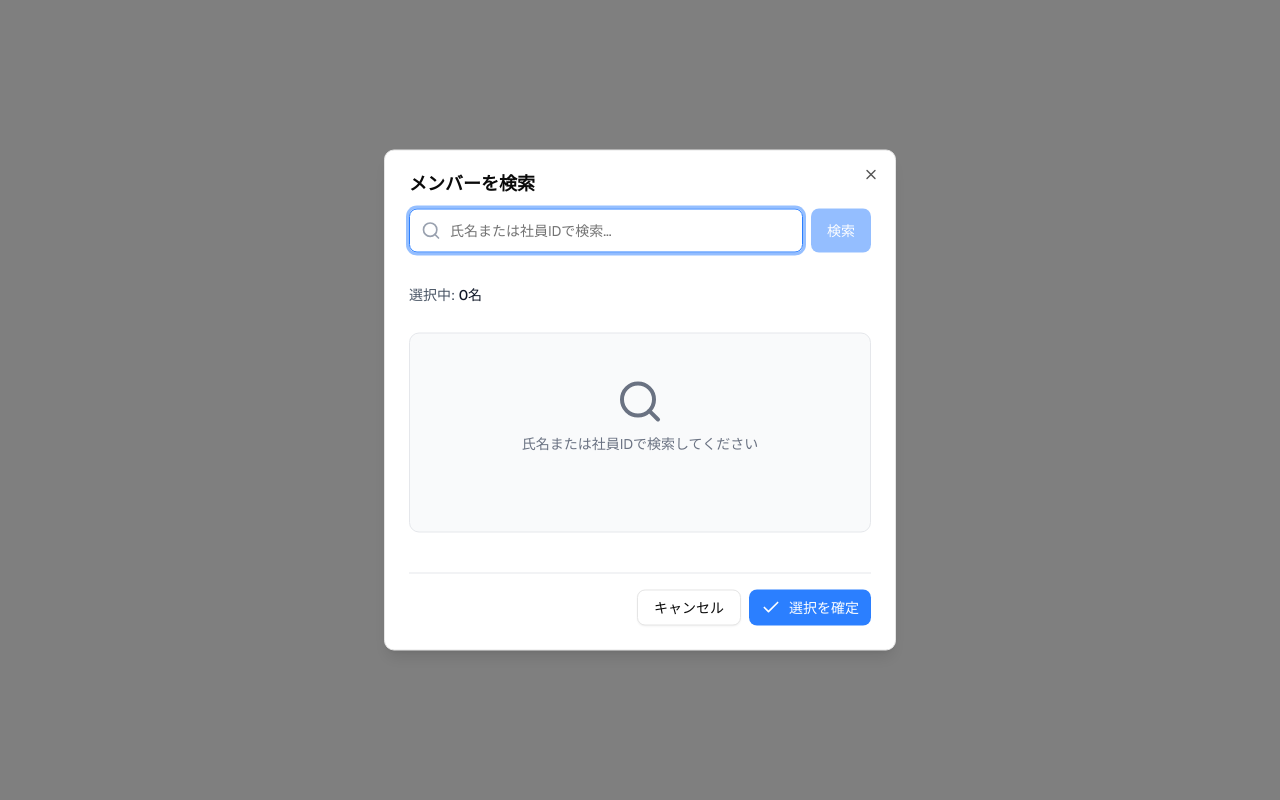
MemberSearchModal › エラー表示 › サーバエラーがない場合はデフォルトメッセージが表示される
Type "テスト" into the search field with placeholder "氏名または社員IDで検索..." at (606, 230), box [409,208,803,252]
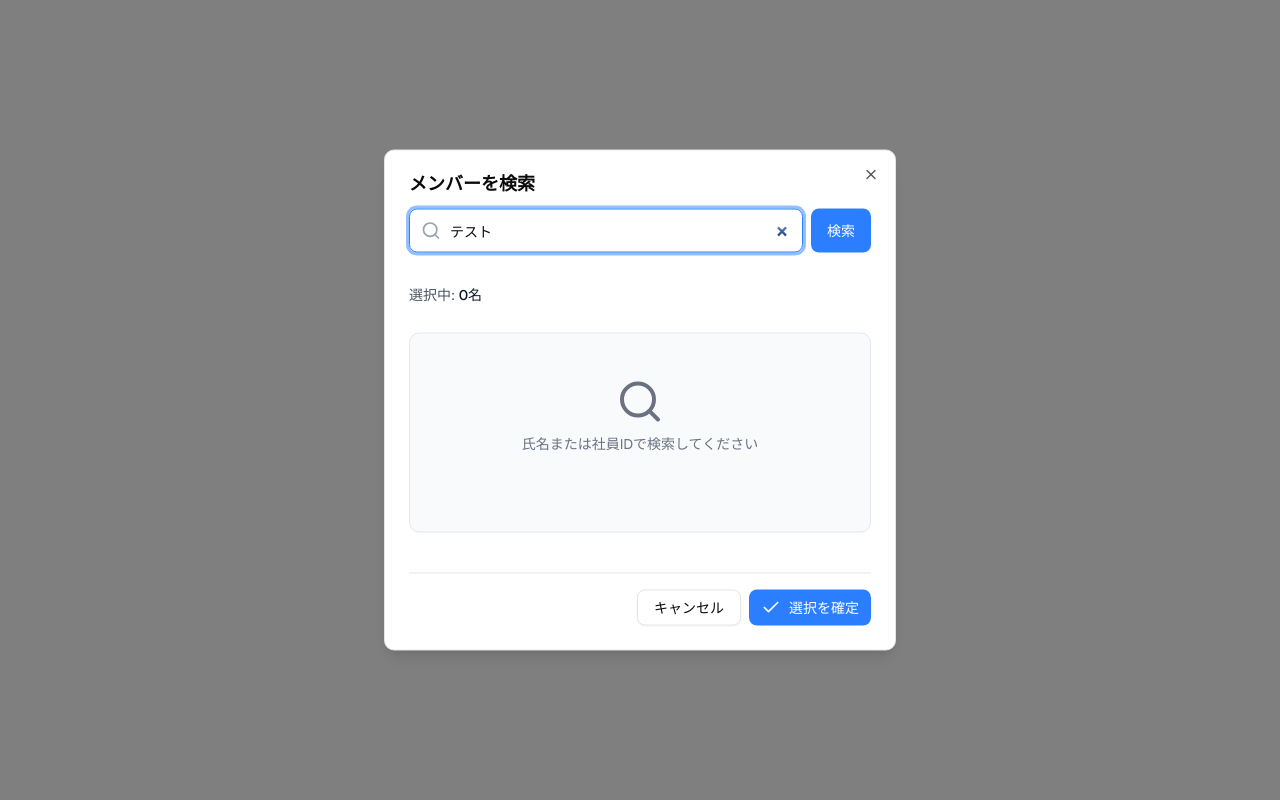
Click the button "検索" at (841, 230), box [811,208,871,252]
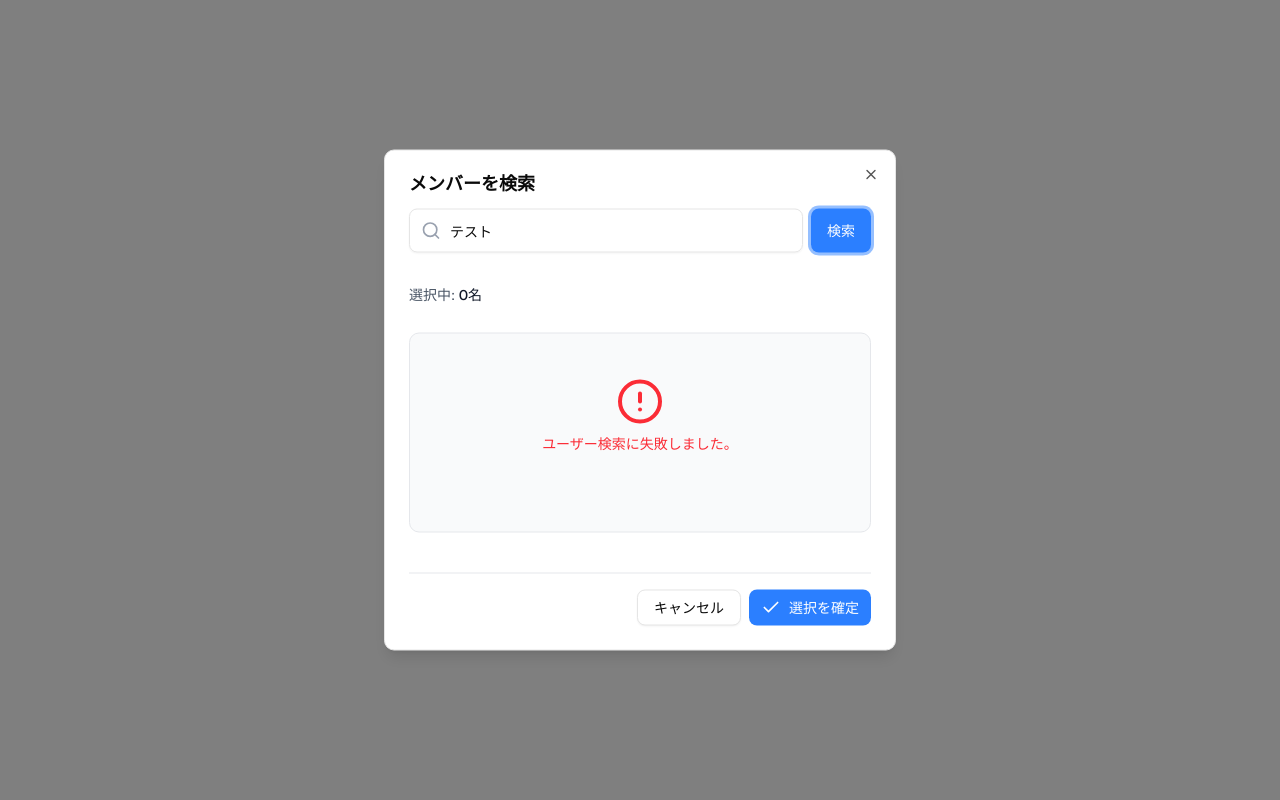
expect the text "ユーザー検索に失敗しました。" is shown: met, box [542,434,738,454]
